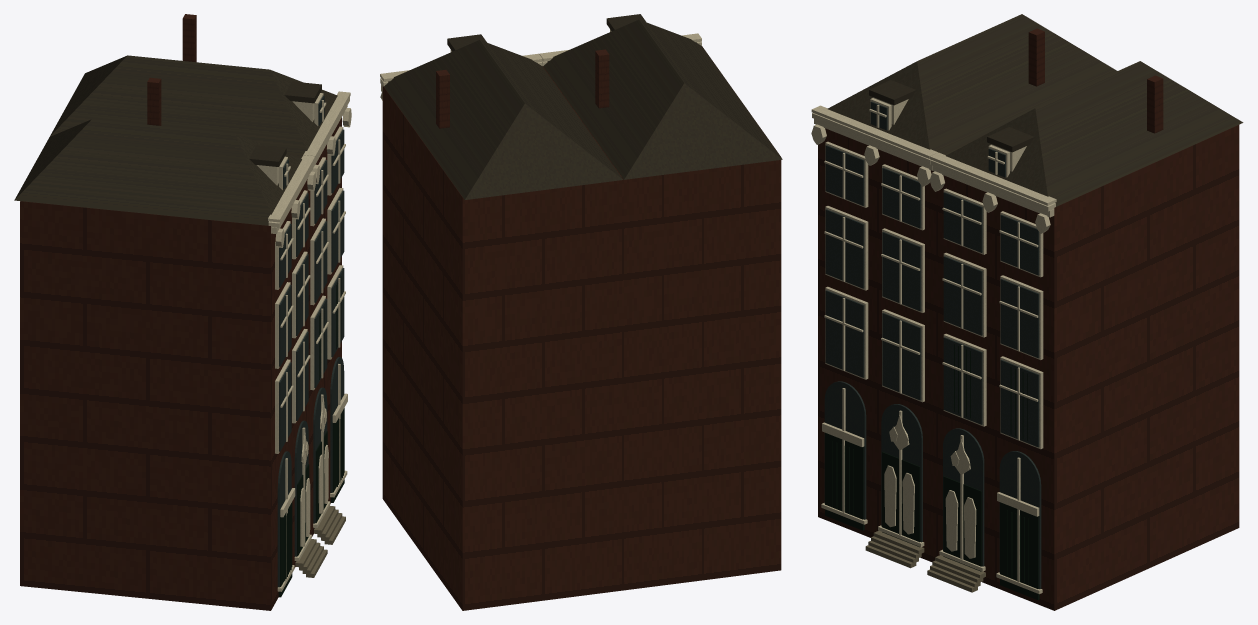
3 renders of one model, left to right at view 1: azimuth 30°, elevation 25°; view 2: azimuth 150°, elevation 25°; view 3: azimuth 270°, elevation 25°, orthographic. The views are drawn at different scales.
Parts seen in each view (by area): view 1: boompjes42-43-0, boompjes42-43-1, boompjes42-43-2, boompjes42-43-3, boompjes42-43-4, boompjes42-43-5; view 2: boompjes42-43-0, boompjes42-43-1, boompjes42-43-2; view 3: boompjes42-43-0, boompjes42-43-1, boompjes42-43-3, boompjes42-43-2, boompjes42-43-4, boompjes42-43-5.
Part boxes in pixels (x1,y1,x2,y2): boompjes42-43-0: [20, 14, 341, 610]; boompjes42-43-1: [14, 55, 337, 225]; boompjes42-43-2: [257, 91, 351, 591]; boompjes42-43-3: [277, 95, 344, 587]; boompjes42-43-4: [278, 276, 344, 597]; boompjes42-43-5: [295, 506, 345, 577]; boompjes42-43-0: [382, 46, 781, 610]; boompjes42-43-1: [384, 14, 782, 199]; boompjes42-43-2: [380, 29, 701, 100]; boompjes42-43-0: [818, 28, 1239, 610]; boompjes42-43-1: [827, 14, 1243, 206]; boompjes42-43-3: [824, 101, 1041, 589]; boompjes42-43-2: [811, 97, 1056, 594]; boompjes42-43-4: [825, 344, 1039, 599]; boompjes42-43-5: [865, 530, 985, 592].
Size of the model in its own units: 16.76 by 20.55 by 16.81.
Materials: 6 (6 with a texture image).
